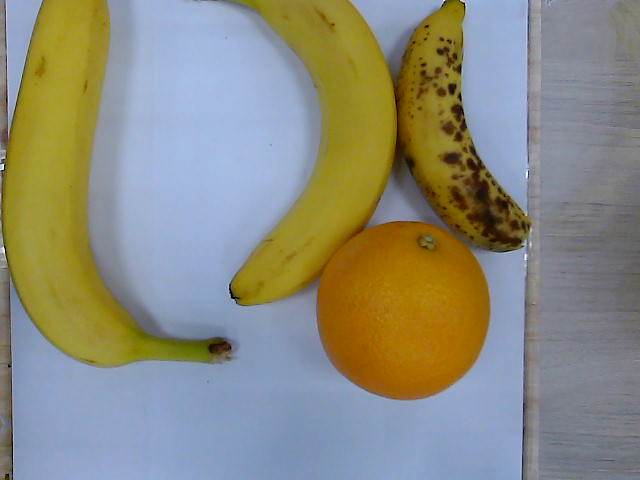fresh_banana: (4, 1, 227, 365), (225, 4, 397, 304)
fresh_orange: (317, 222, 493, 401)
rotten_banana: (397, 2, 533, 254)
